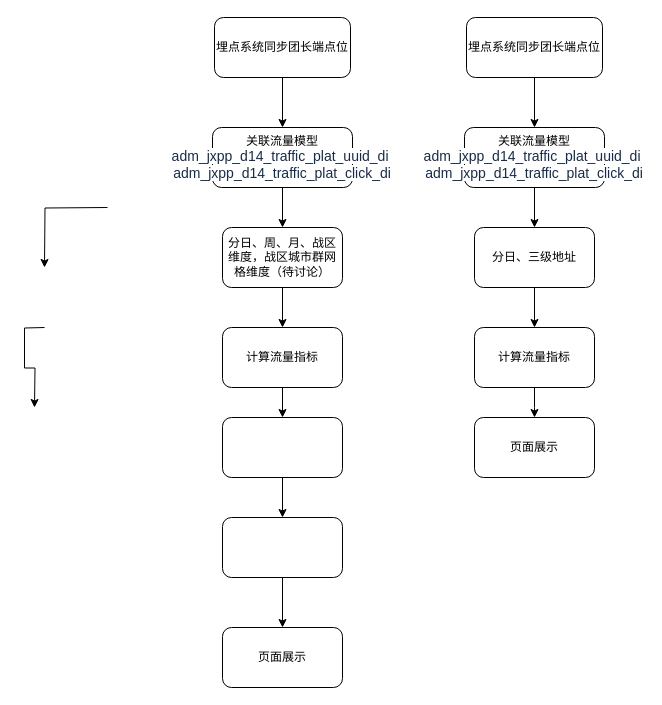
Image size: 662x705. Some labels were removed from this diagram. The box of each missing label's shape, as (x1, y1, x2, y2) in pixels:
统计常用点位: (222, 516, 342, 578)
统计种子用户: (222, 416, 342, 478)
